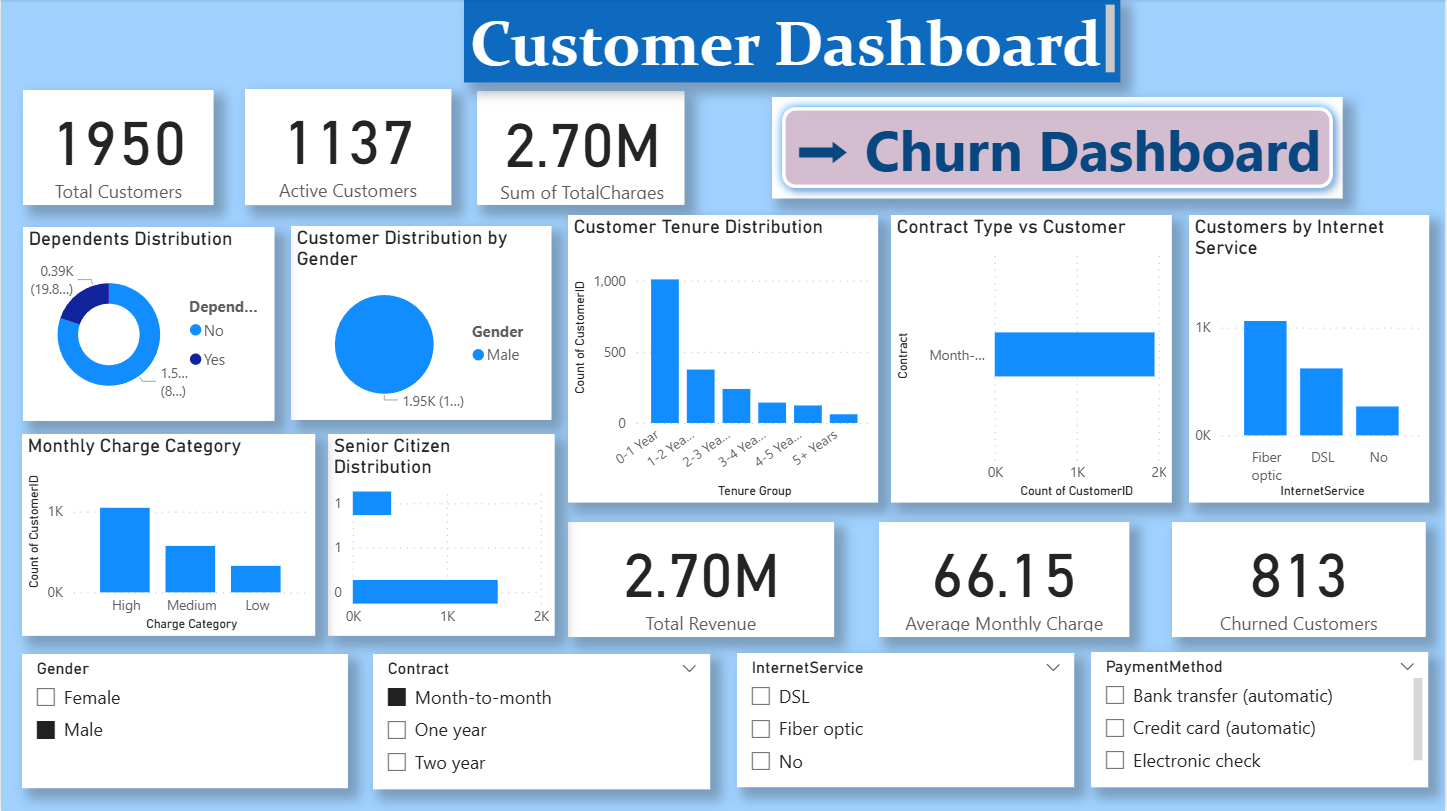

The page's visual inventory and layout, read from the dashboard file:
{"tool":"powerbi","page":{"name":"Customer Dashboard","canvas":[1280,720],"ordinal":1},"visuals":[{"type":"card","fields":{"Values":["Sum(Customer_Churn.TotalCharges)"]},"box":[422.1,81.6,184.4,101.1],"z":0},{"type":"textbox","box":[410.5,0,581.7,74.5],"z":1000},{"type":"card","fields":{"Values":["Customer_Churn.Total Customers"]},"box":[19.5,80.7,169.4,102],"z":2000},{"type":"card","fields":{"Values":["Customer_Churn.Churned Customers"]},"box":[1038.3,463.7,225,101.9],"z":3000},{"type":"card","fields":{"Values":["Customer_Churn.Active Customers"]},"box":[216.4,79.8,182.7,102.9],"z":4000},{"type":"card","fields":{"Values":["Customer_Churn.Average Monthly Charge"]},"box":[778.3,463.7,221.9,101.9],"z":5000},{"type":"card","fields":{"Values":["Customer_Churn.Total Revenue"]},"box":[503.2,463.7,235.6,101.9],"z":6000},{"type":"pieChart","title":"Customer Distribution by Gender","fields":{"Category":["Customer_Churn.Gender"],"Y":["CountNonNull(Customer_Churn.CustomerID)"]},"box":[257.3,201.7,231.4,172],"z":7000},{"type":"donutChart","title":"Dependents Distribution","fields":{"Category":["Customer_Churn.Dependents"],"Y":["CountNonNull(Customer_Churn.CustomerID)"]},"box":[19.5,201.8,223.2,171.6],"z":8000},{"type":"clusteredBarChart","title":"Senior Citizen Distribution","fields":{"Category":["Customer_Churn.SeniorCitizen"],"Y":["CountNonNull(Customer_Churn.CustomerID)"]},"box":[290.4,386.1,200.7,179.4],"z":9000},{"type":"clusteredColumnChart","title":"Customer Tenure Distribution","fields":{"Category":["Customer_Churn.Tenure Group"],"Y":["CountNonNull(Customer_Churn.CustomerID)"]},"box":[503.2,191.5,275.2,255.4],"z":10000},{"type":"columnChart","title":"Monthly Charge Category","fields":{"Category":["Customer_Churn.Charge Category"],"Y":["CountNonNull(Customer_Churn.CustomerID)"]},"box":[18.2,386.1,260,179.4],"z":11000},{"type":"slicer","fields":{"Values":["Customer_Churn.Gender"]},"box":[18.2,580.7,288.8,118.6],"z":12000},{"type":"slicer","fields":{"Values":["Customer_Churn.Contract"]},"box":[329.9,580.7,299.5,120.1],"z":13000},{"type":"slicer","fields":{"Values":["Customer_Churn.InternetService"]},"box":[652.2,580,299.3,118.9],"z":14000},{"type":"slicer","fields":{"Values":["Customer_Churn.PaymentMethod"]},"box":[966.8,579.2,299.5,120.1],"z":15000},{"type":"actionButton","box":[684.1,86.7,506.2,89.7],"z":16000},{"type":"clusteredBarChart","title":"Contract Type vs Customer","fields":{"Category":["Customer_Churn.Contract"],"Y":["CountNonNull(Customer_Churn.CustomerID)"]},"box":[789,191.5,249.3,255.4],"z":17000},{"type":"columnChart","title":"Customers by Internet Service","fields":{"Category":["Customer_Churn.InternetService"],"Y":["CountNonNull(Customer_Churn.CustomerID)"]},"box":[1053.5,191.5,212.8,255.4],"z":18000}]}

Visuals, with their boxes in screenshot pixels (x1, y1, x2, y2), scaled from the page's 1280x720 canvas onto the 1447x811 screenshot:
card - Sum(Customer_Churn.TotalCharges): [477,92,686,206]
textbox: [464,0,1122,84]
card - Customer_Churn.Total Customers: [22,91,214,206]
card - Customer_Churn.Churned Customers: [1174,522,1428,637]
card - Customer_Churn.Active Customers: [245,90,451,206]
card - Customer_Churn.Average Monthly Charge: [880,522,1131,637]
card - Customer_Churn.Total Revenue: [569,522,835,637]
"Customer Distribution by Gender" pieChart: [291,227,552,421]
"Dependents Distribution" donutChart: [22,227,274,421]
"Senior Citizen Distribution" clusteredBarChart: [328,435,555,637]
"Customer Tenure Distribution" clusteredColumnChart: [569,216,880,503]
"Monthly Charge Category" columnChart: [21,435,314,637]
slicer - Customer_Churn.Gender: [21,654,347,788]
slicer - Customer_Churn.Contract: [373,654,712,789]
slicer - Customer_Churn.InternetService: [737,653,1076,787]
slicer - Customer_Churn.PaymentMethod: [1093,652,1432,788]
actionButton: [773,98,1346,199]
"Contract Type vs Customer" clusteredBarChart: [892,216,1174,503]
"Customers by Internet Service" columnChart: [1191,216,1432,503]
